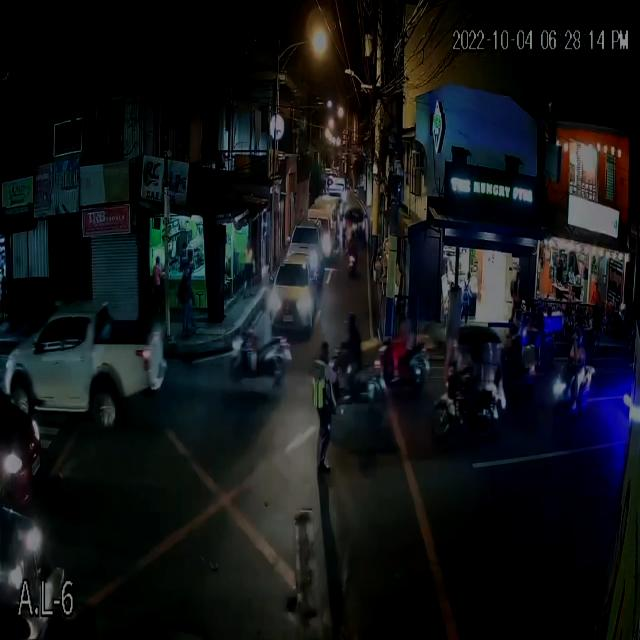Full-Faced: (343, 306, 358, 334), (571, 322, 586, 346), (534, 297, 546, 313), (350, 227, 356, 239)
